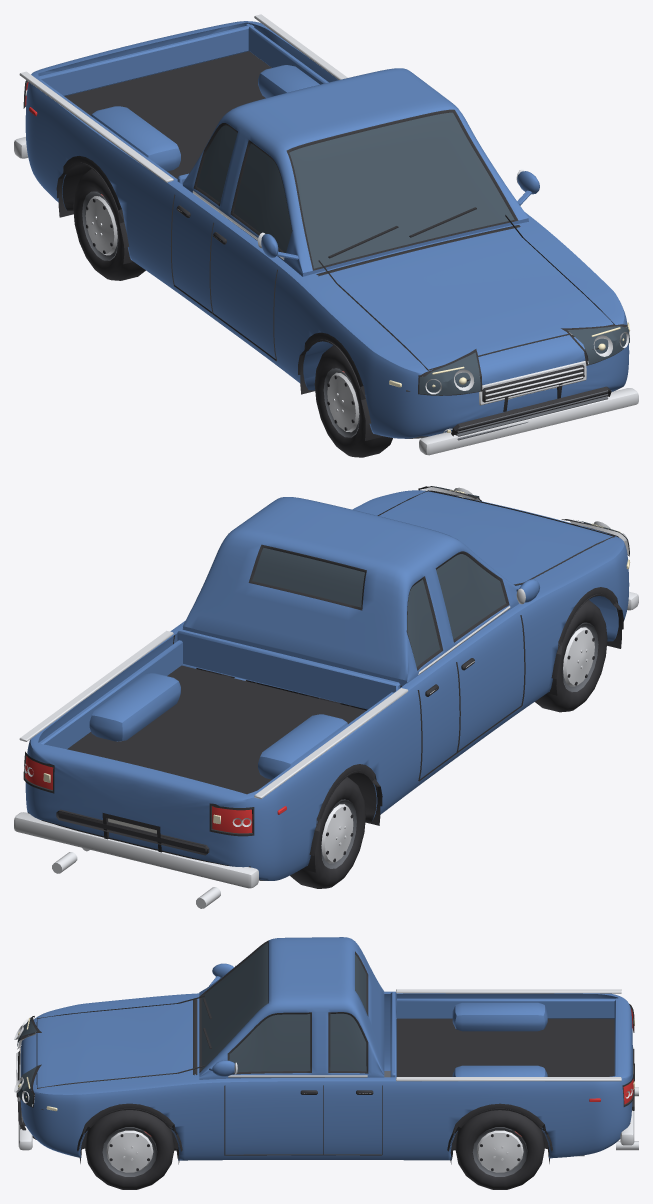
The model's file is CarV3_Pickup.fbx.
3 renders of one model, top to bottom at view 1: azimuth 30°, elevation 25°; view 2: azimuth 150°, elevation 25°; view 3: azimuth 270°, elevation 25°, orthographic. The views are drawn at different scales.
Parts seen in each view (by area): view 1: CarV3_Pickup; view 2: CarV3_Pickup; view 3: CarV3_Pickup.
Boxes of the visible parts, x1,y1,x2,y2 form: CarV3_Pickup: (14,14,638,457); CarV3_Pickup: (14,486,638,908); CarV3_Pickup: (14,937,638,1189).
Size of the model in its own units: 2.07 by 1.73 by 5.4.
